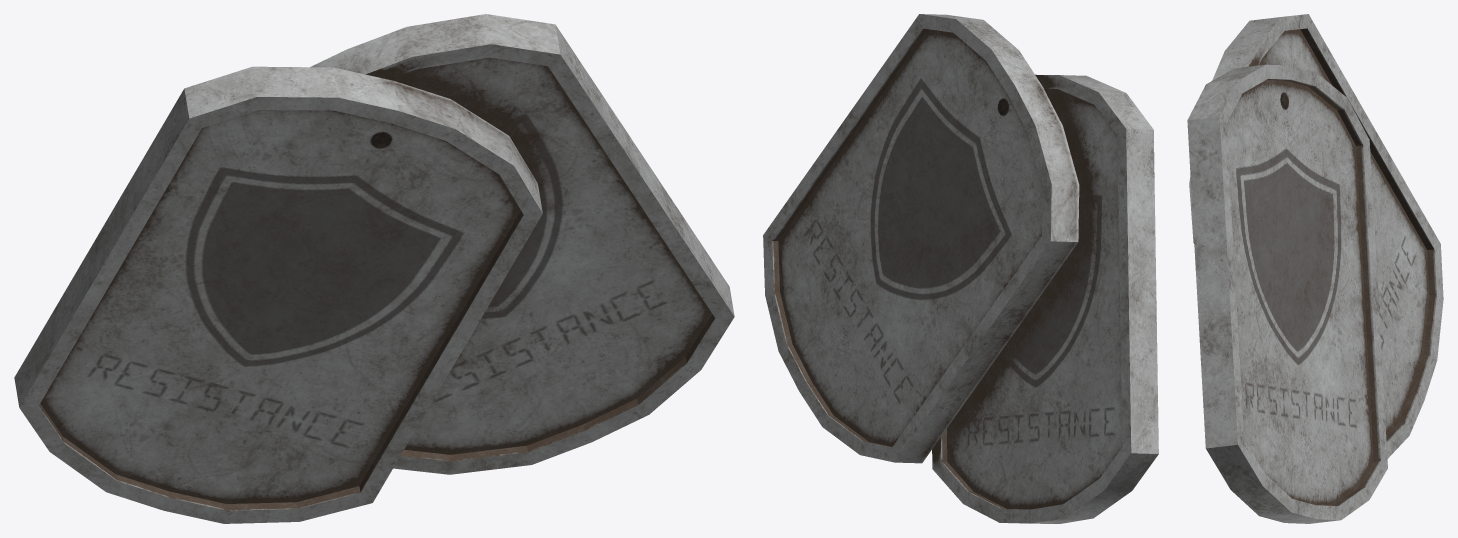
The model's file is power_up_escudo.obj.
3 renders of one model, left to right at view 1: azimuth 30°, elevation 25°; view 2: azimuth 150°, elevation 25°; view 3: azimuth 270°, elevation 25°, orthographic. The views are drawn at different scales.
Visible parts, largest first — view 1: Box229; view 2: Box229; view 3: Box229.
Boxes of the visible parts, x1,y1,x2,y2 form: Box229: [14, 14, 734, 523]; Box229: [763, 14, 1158, 523]; Box229: [1187, 14, 1443, 523].
Bounding box in the file's own units: 6.27 × 5.27 × 2.85.
Materials: 1 (1 with a texture image).
